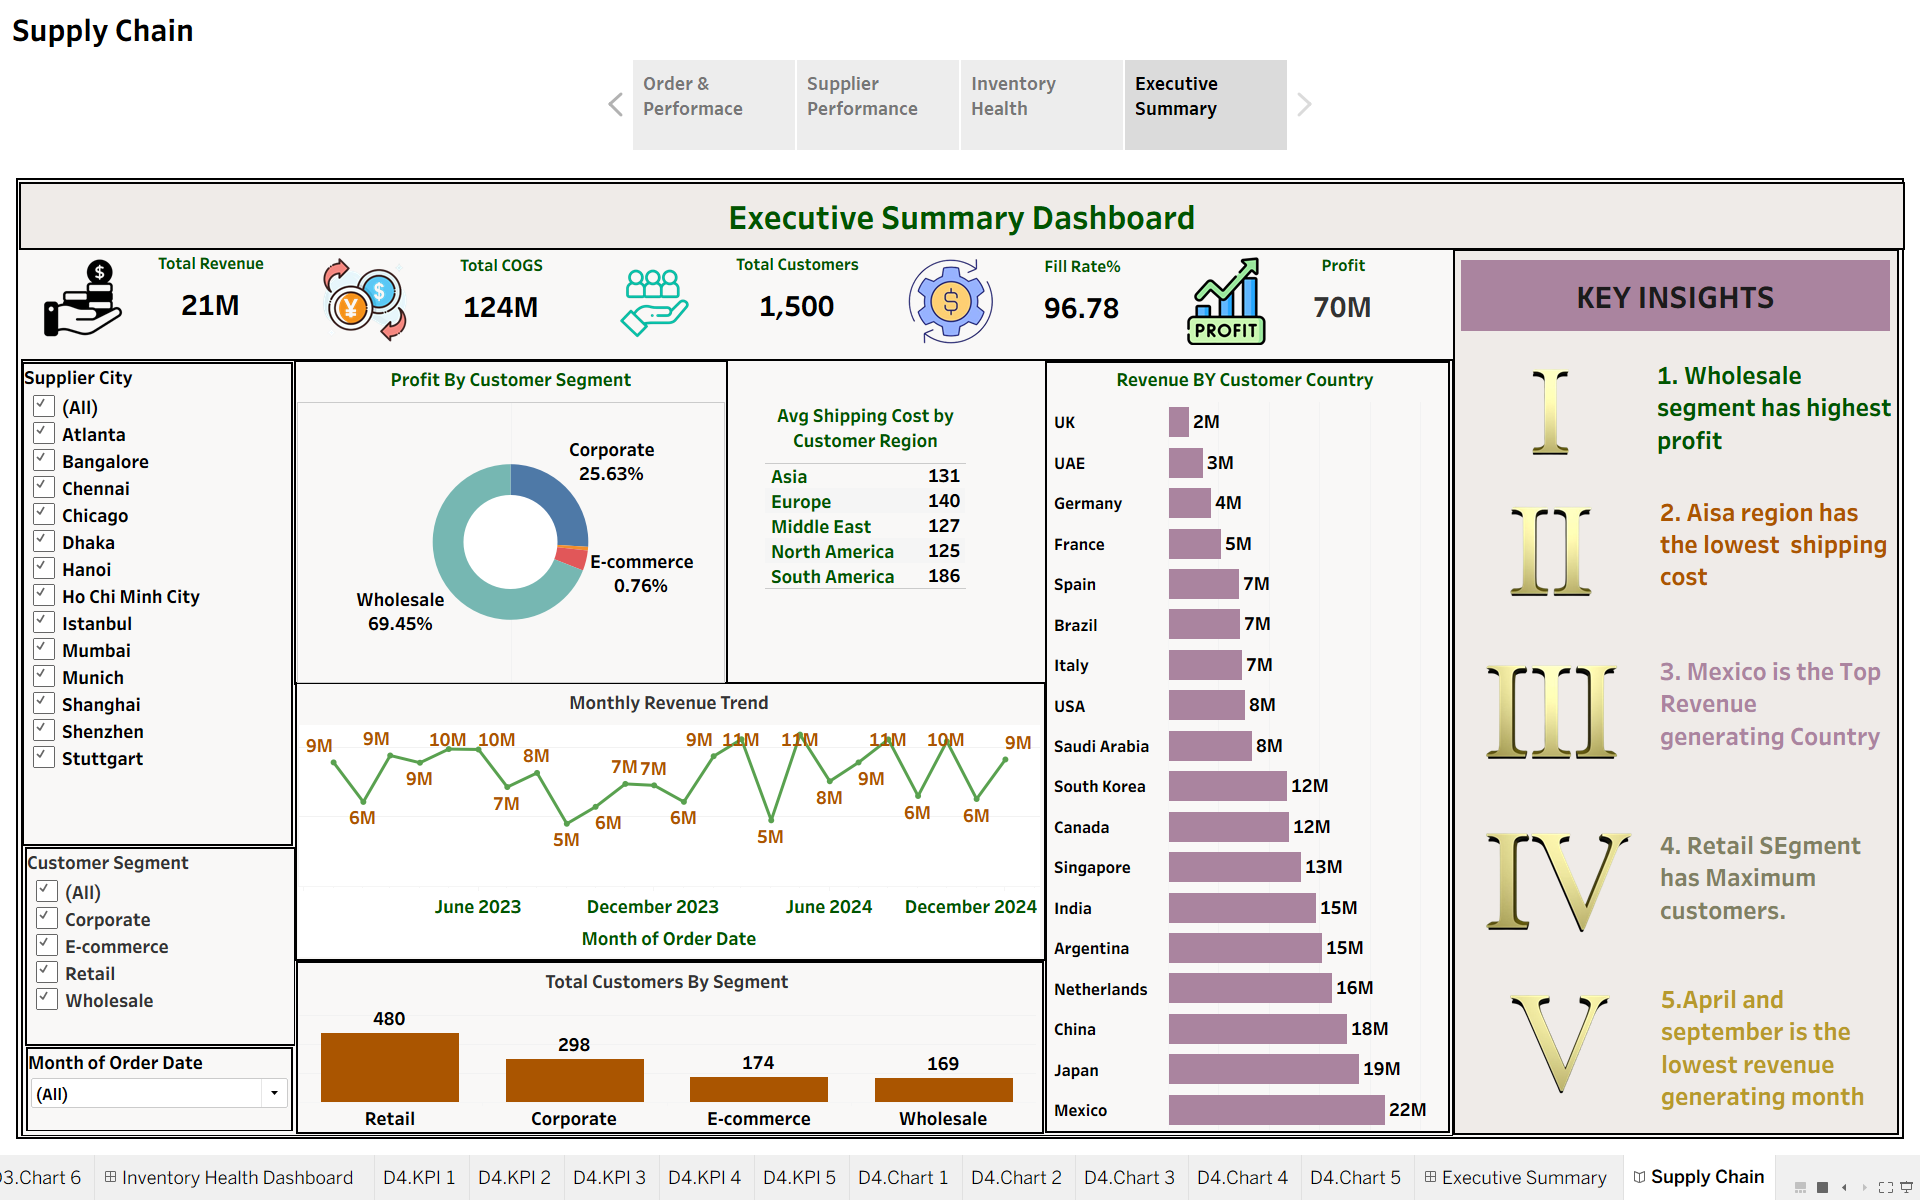

The page's visual inventory and layout, read from the dashboard file:
{"tool":"tableau","page":{"name":"Executive Summary","canvas":[1000,1000],"units":"permille","ordinal":0},"visuals":[{"type":"text","box":[6,12.2,990.4,69.7]},{"type":"image","param":"C:/Users/shrut/Downloads/supplychain_tableau_dashboardfinal.twb Files/Image/imag","box":[444.5,47.7,101.6,182.2]},{"type":"image","param":"C:/Users/shrut/Downloads/supplychain_tableau_dashboardfinal.twb Files/Image/curr","box":[159,78.2,75.4,110]},{"type":"worksheet","title":"D4.KPI 1","mark":"Automatic","box":[57.4,79.5,98.5,101.5]},{"type":"worksheet","title":"D4.KPI 4","mark":"Automatic","box":[362.8,80.7,103.5,94.1]},{"type":"worksheet","title":"D4.KPI 2","mark":"Automatic","box":[215.7,81.9,86.7,99]},{"type":"worksheet","title":"D4.KPI 5","mark":"Automatic","box":[656.5,81.9,89.8,94.1]},{"type":"image","param":"C:/Users/shrut/Downloads/supplychain_tableau_dashboardfinal.twb Files/Image/soli","box":[8.1,83.1,63,128.4]},{"type":"worksheet","title":"D4.KPI 3","mark":"Automatic","box":[523.7,83.1,81.7,91.7]},{"type":"image","param":"C:/Users/shrut/Downloads/supplychain_tableau_dashboardfinal.twb Files/Image/imag","box":[306.7,88,65.5,123.5]},{"type":"image","param":"C:/Users/shrut/Downloads/supplychain_tableau_dashboardfinal.twb Files/Image/7314","box":[616.6,89.2,50.5,90.5]},{"type":"text","box":[763.2,91.7,225.4,73.4]},{"type":"image","param":"C:/Users/shrut/Downloads/supplychain_tableau_dashboardfinal.twb Files/Image/roma","box":[774.9,176,70.5,162.6]},{"type":"text","box":[864.1,176,127.2,134.5]},{"type":"filter","title":"D4.Chart 3","param":"[federated.126etw91dogkyb0zrq07615un7oo].[none:Supplier_City:nk]","box":[7.5,196.8,142.1,495.1]},{"type":"worksheet","title":"D4.Chart 1","mark":"Pie","cols":["Calculation_1891465450762243","Calculation_1891465450762243"],"box":[152,196.8,224.8,328.9]},{"type":"worksheet","title":"D4.Chart 3","mark":"Automatic","rows":["Customer_Country"],"cols":["Revenue"],"box":[546.1,196.8,207,786.1]},{"type":"worksheet","title":"D4.Chart 2","mark":"Automatic","rows":["Customer_Region"],"box":[397.8,233.5,164.1,326.4]},{"type":"text","box":[865.3,290.9,124.7,184.6]},{"type":"image","param":"C:/Users/shrut/Downloads/supplychain_tableau_dashboardfinal.twb Files/Image/roma","box":[774.9,316.6,72.9,145.5]},{"type":"text","box":[865.3,458.4,122.8,174.8]},{"type":"image","param":"C:/Users/shrut/Downloads/supplychain_tableau_dashboardfinal.twb Files/Image/roma","box":[771.8,476.8,84.8,149.1]},{"type":"worksheet","title":"D4.Chart 5","mark":"Automatic","rows":["Revenue"],"cols":["Order_Date"],"box":[152.1,526.9,389.7,278.7]},{"type":"text","box":[865.3,636.9,125.9,174.8]},{"type":"image","param":"C:/Users/shrut/Downloads/supplychain_tableau_dashboardfinal.twb Files/Image/roma","box":[774.9,646.7,79.2,158.9]},{"type":"filter","title":"D4.Chart 4","param":"[federated.126etw91dogkyb0zrq07615un7oo].[none:Customer_Segment:nk]","box":[8.7,693.1,142.1,204.2]},{"type":"text","box":[866,808.1,124.7,182.2]},{"type":"worksheet","title":"D4.Chart 4","mark":"Automatic","rows":["Customer_ID"],"cols":["Customer_Segment"],"box":[152.1,813,387.8,171.2]},{"type":"image","param":"C:/Users/shrut/Downloads/supplychain_tableau_dashboardfinal.twb Files/Image/roma","box":[776.2,813,78.5,166.3]},{"type":"filter","title":"D4.Chart 3","param":"[federated.126etw91dogkyb0zrq07615un7oo].[mn:Order_Date:ok]","box":[9.3,897.3,140.3,86.8]}]}

Visuals, with their boxes on the dashboard's canvas, which has no fixed pixel size, in thousandths of its width and height (x1, y1, x2, y2). These are canvas units, not pixel positions in the 1920x1200 screenshot, which may show the page scaled, cropped or inside an application window:
text: l=6, t=12, r=996, b=82
image: l=444, t=48, r=546, b=230
image: l=159, t=78, r=234, b=188
"D4.KPI 1" worksheet: l=57, t=80, r=156, b=181
"D4.KPI 4" worksheet: l=363, t=81, r=466, b=175
"D4.KPI 2" worksheet: l=216, t=82, r=302, b=181
"D4.KPI 5" worksheet: l=656, t=82, r=746, b=176
image: l=8, t=83, r=71, b=212
"D4.KPI 3" worksheet: l=524, t=83, r=605, b=175
image: l=307, t=88, r=372, b=212
image: l=617, t=89, r=667, b=180
text: l=763, t=92, r=989, b=165
image: l=775, t=176, r=845, b=339
text: l=864, t=176, r=991, b=310
"D4.Chart 3" filter: l=8, t=197, r=150, b=692
"D4.Chart 1" worksheet (Pie marks): l=152, t=197, r=377, b=526
"D4.Chart 3" worksheet: l=546, t=197, r=753, b=983
"D4.Chart 2" worksheet: l=398, t=234, r=562, b=560
text: l=865, t=291, r=990, b=476
image: l=775, t=317, r=848, b=462
text: l=865, t=458, r=988, b=633
image: l=772, t=477, r=857, b=626
"D4.Chart 5" worksheet: l=152, t=527, r=542, b=806
text: l=865, t=637, r=991, b=812
image: l=775, t=647, r=854, b=806
"D4.Chart 4" filter: l=9, t=693, r=151, b=897
text: l=866, t=808, r=991, b=990
"D4.Chart 4" worksheet: l=152, t=813, r=540, b=984
image: l=776, t=813, r=855, b=979
"D4.Chart 3" filter: l=9, t=897, r=150, b=984
